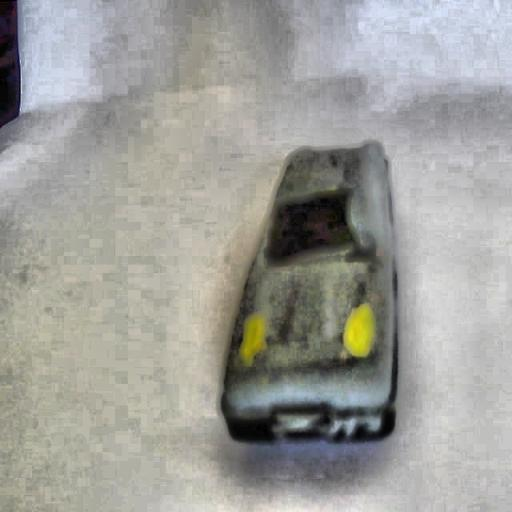normal_car: (215, 141, 405, 448)
